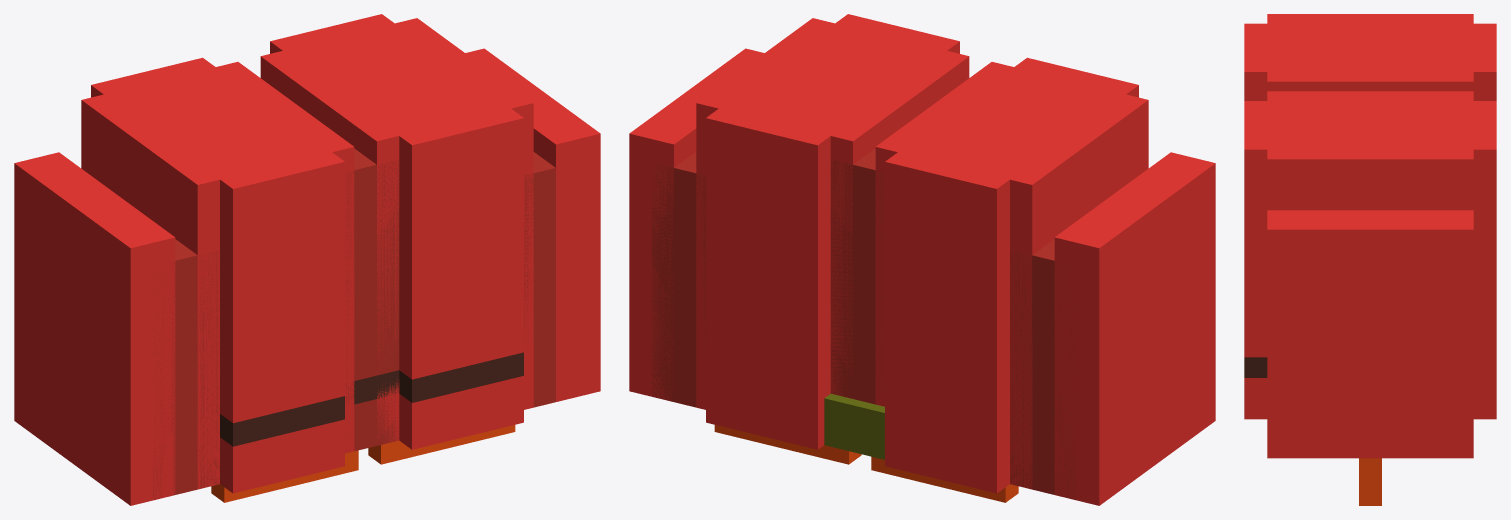
The model's file is pumpkin.glb.
3 views of the same model, side by side, from view 1: azimuth 30°, elevation 25°; view 2: azimuth 150°, elevation 25°; view 3: azimuth 270°, elevation 25° (orthographic). The views are drawn at different scales.
Parts seen in each view (by area): view 1: base, in, glasses; view 2: base, in, top, glasses; view 3: base, glasses.
Part boxes in pixels (<box>): base: <box>14,14,600,505</box>; in: <box>153,148,555,500</box>; glasses: <box>211,425,515,502</box>; base: <box>629,14,1215,505</box>; in: <box>651,148,1076,499</box>; top: <box>824,393,884,459</box>; glasses: <box>714,425,1018,502</box>; base: <box>1244,14,1496,458</box>; glasses: <box>1359,458,1381,505</box>.
Size of the model in its own units: 21 by 16 by 11.
Materials: 13 (13 with a texture image).
